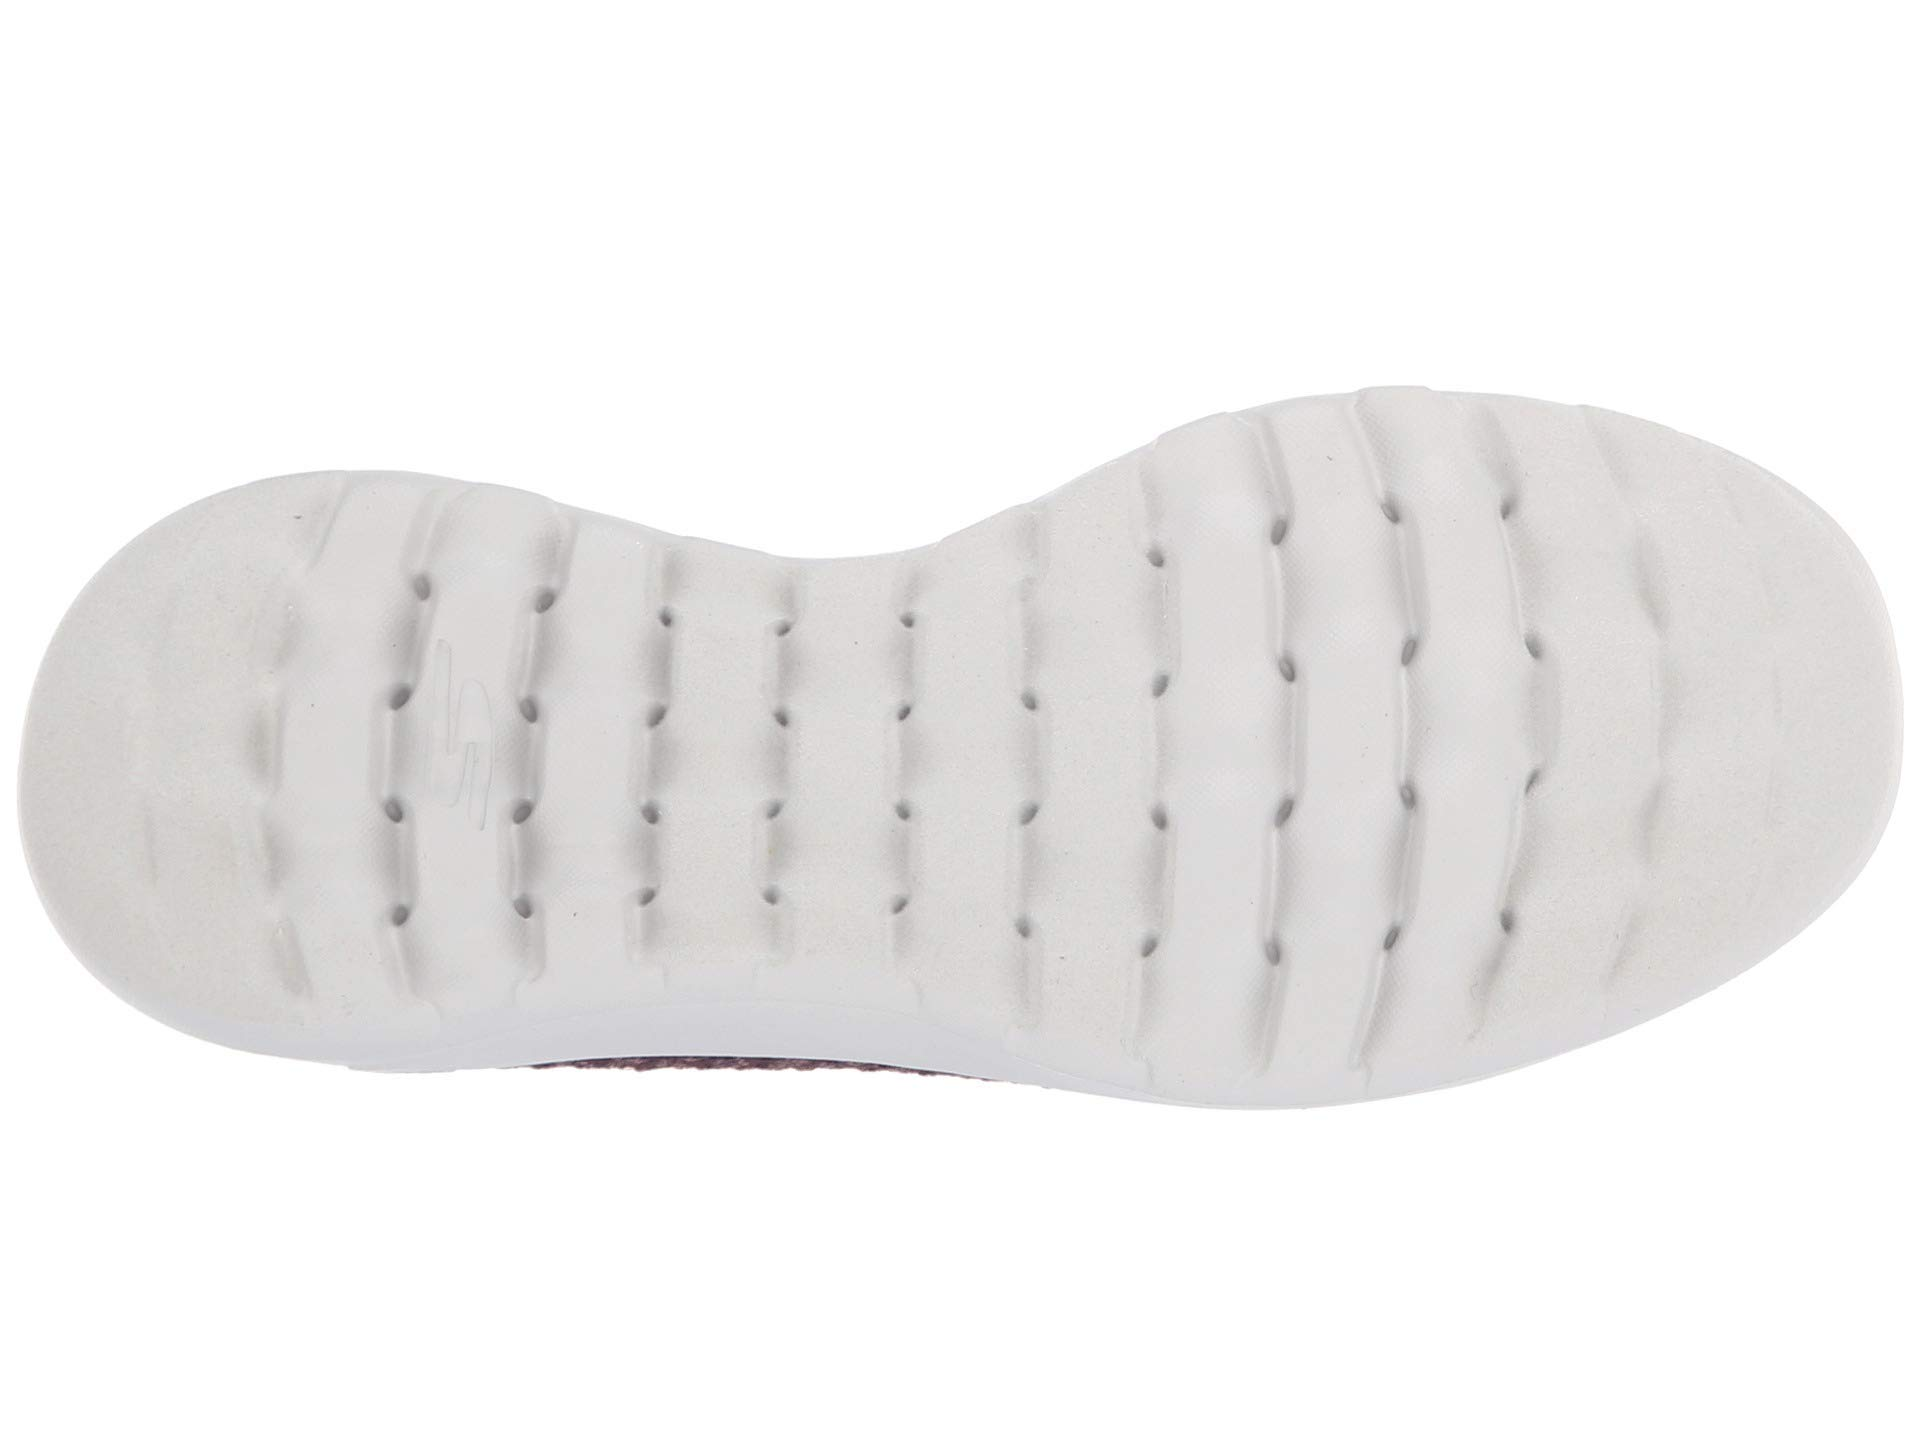circle: (1219, 487, 1448, 1012), (342, 511, 475, 995), (506, 545, 593, 988)
exclude: (491, 1050, 1022, 1131)
